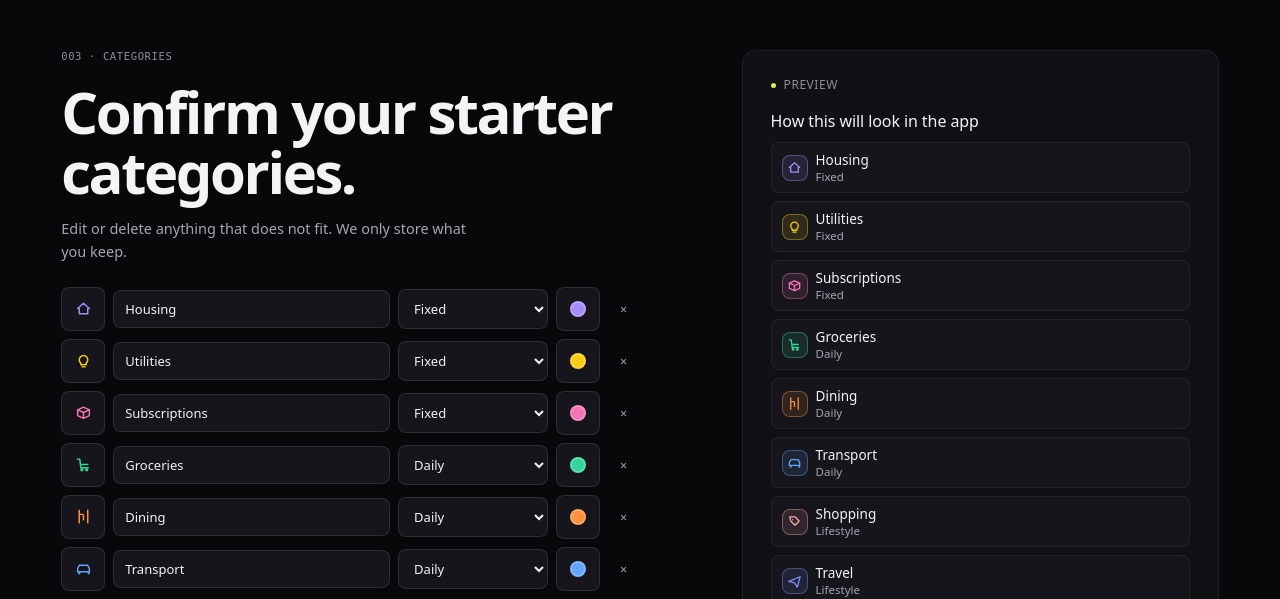
StepCategories › opens an icon picker for a row and keeps the chosen icon selected
The width and height of the screenshot is (1280, 599).
Click the button named "Choose icon for Housing".
click(83, 308)  # box [61,286,105,330]
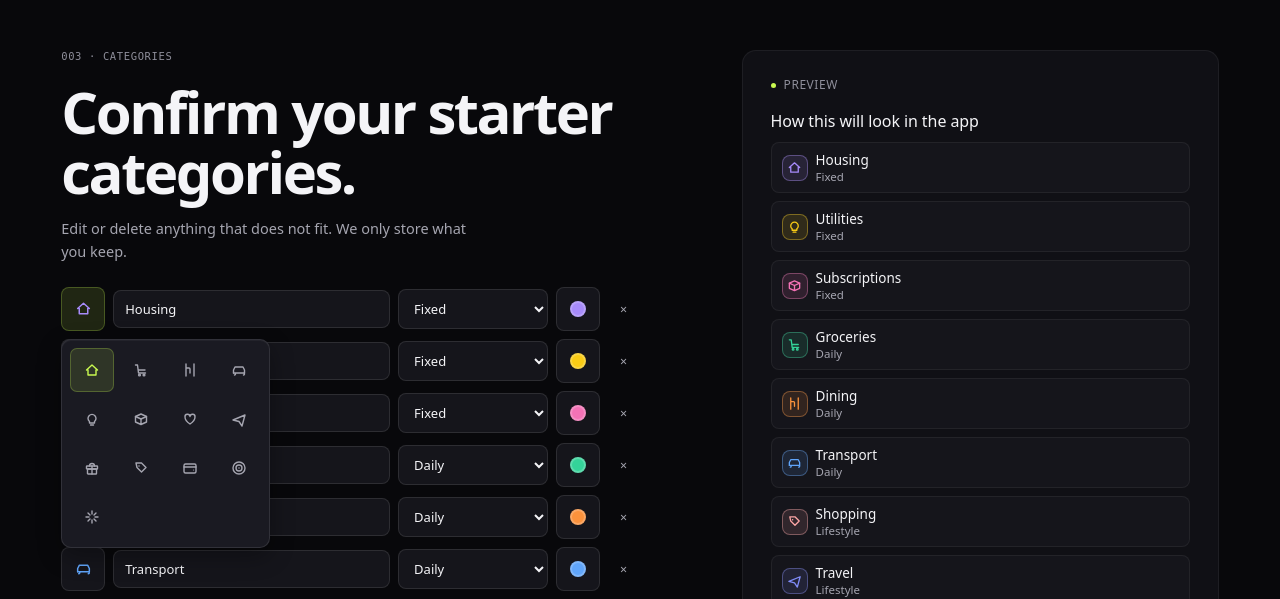
Click the button named "Use Goal icon".
click(239, 468)  # box [217,446,261,490]
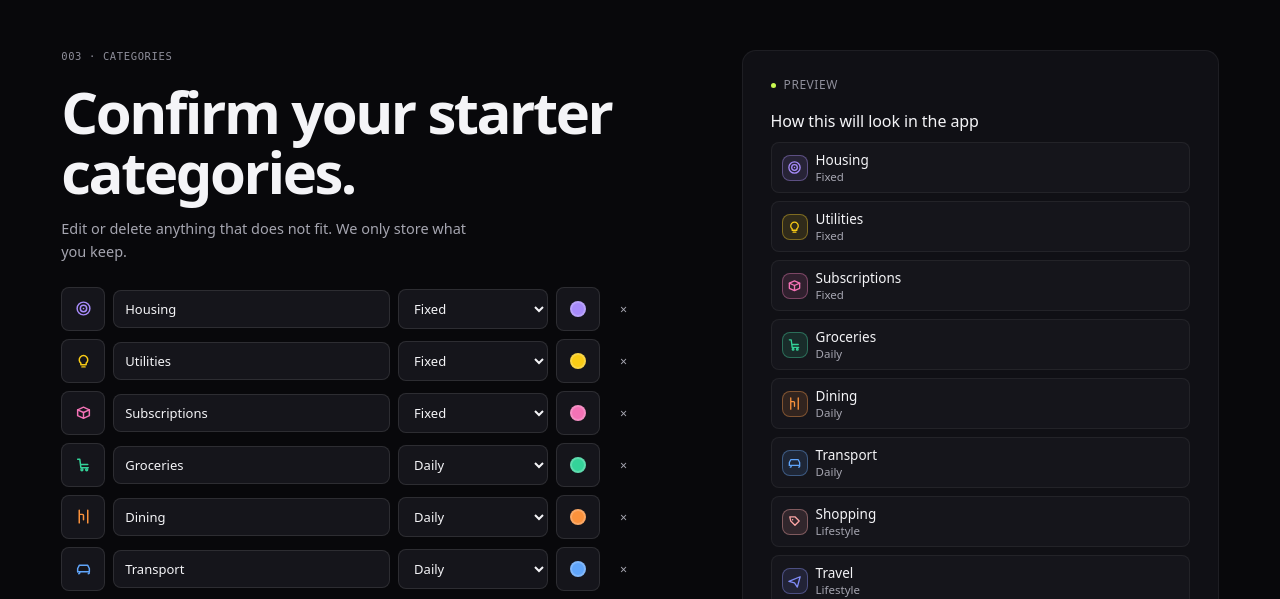
Result: the button named "Choose icon for Housing" is collapsed at [61,286,105,330]
